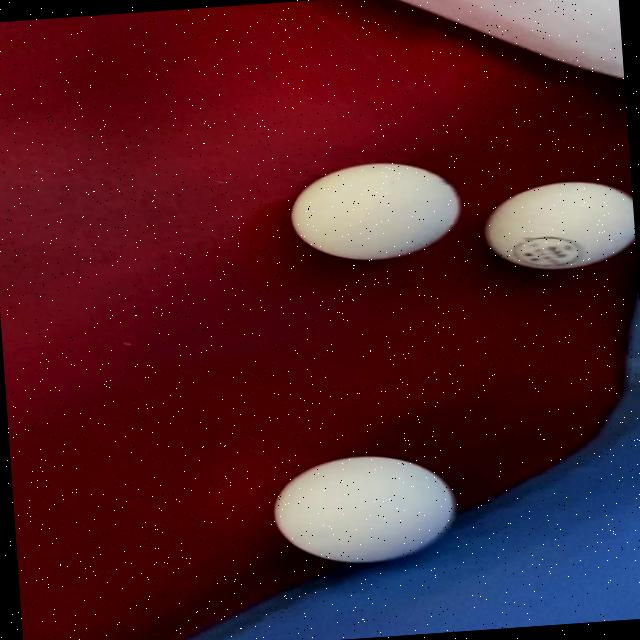ping-pong-ball: (264, 447, 462, 571), (283, 154, 467, 268), (477, 172, 637, 280)
